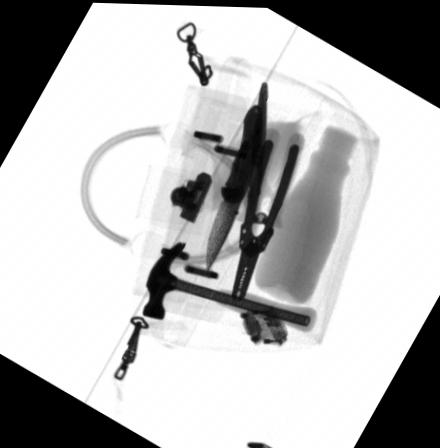Hammer: (140, 240, 316, 331)
Knife: (205, 100, 269, 270)
Pliers: (231, 125, 307, 300)
Scissors: (209, 80, 288, 258)
